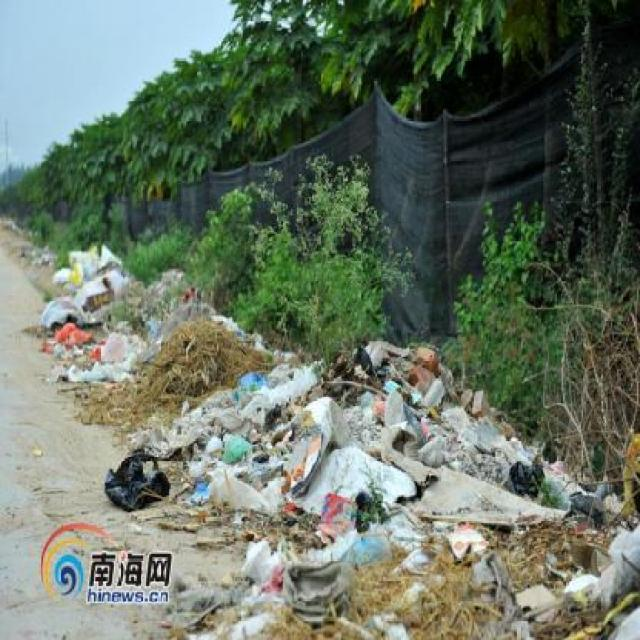garbage: (297, 359, 474, 635), (43, 240, 288, 436), (481, 392, 640, 639), (99, 448, 292, 524), (214, 548, 295, 636), (6, 218, 42, 266)
